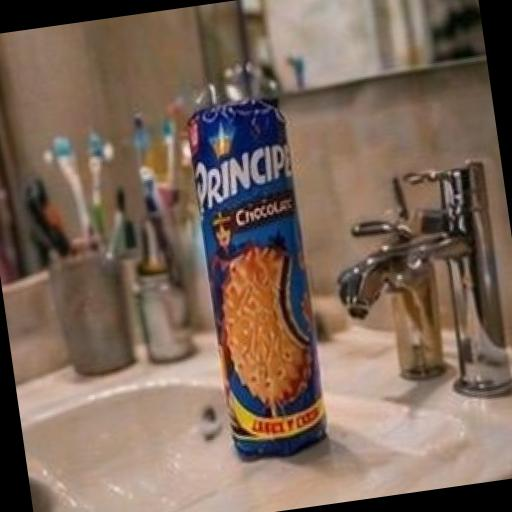prince: (136, 58, 402, 507)
